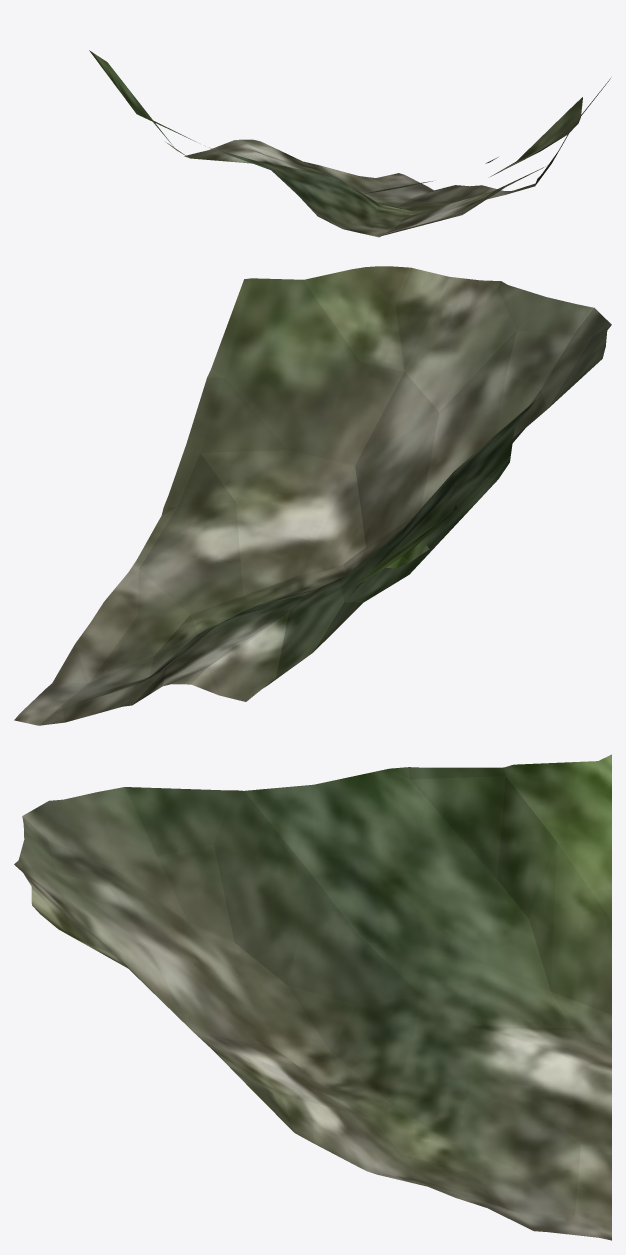
3 renders of one model, top to bottom at view 1: azimuth 30°, elevation 25°; view 2: azimuth 150°, elevation 25°; view 3: azimuth 270°, elevation 25°, orthographic. The views are drawn at different scales.
Bounding box in the file's own units: 1.7 × 1.06 × 2.07.
1 material, 1 textured.
